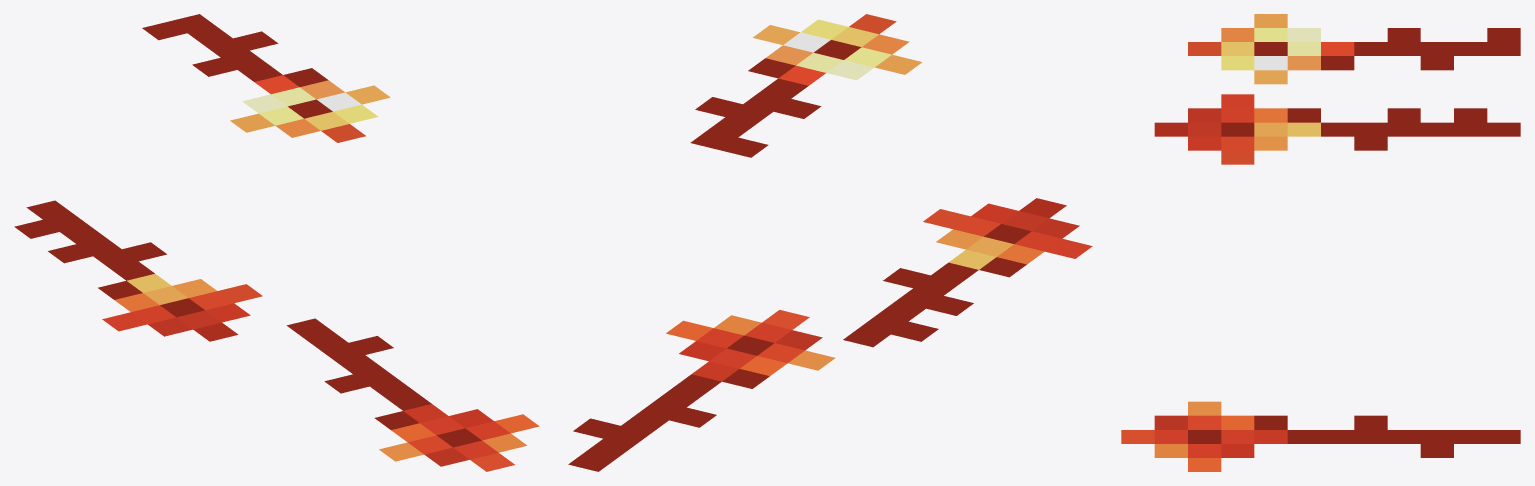
Rendered from flowers-hell.glb.
3 views of the same model, side by side, from view 1: azimuth 30°, elevation 25°; view 2: azimuth 150°, elevation 25°; view 3: azimuth 270°, elevation 25° (orthographic). The views are drawn at different scales.
Visible parts, largest first — view 1: flowers-hell; view 2: flowers-hell; view 3: flowers-hell.
Part boxes in pixels (x1,y1,x2,y2): flowers-hell: [14, 14, 539, 471]; flowers-hell: [568, 14, 1092, 471]; flowers-hell: [1121, 14, 1520, 471].
Size of the model in its own units: 0.875 by 0.6875 by 0.75.
2 materials, 2 textured.
